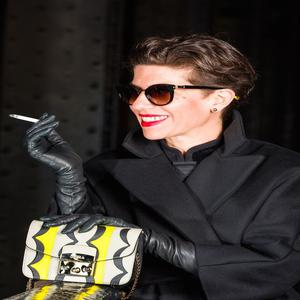cigarette: (8, 113, 50, 125)
